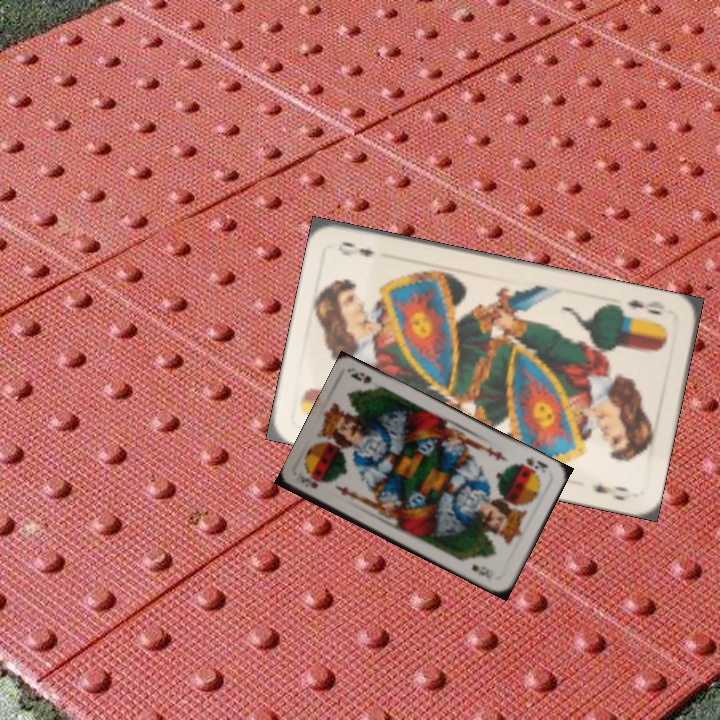EO: (622, 295, 664, 318)
SK: (516, 453, 550, 474), (296, 473, 321, 491)
